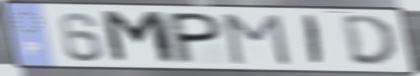6: (57, 10, 106, 63)
D: (338, 13, 401, 69)
I: (303, 13, 325, 67)
M: (97, 9, 182, 67), (221, 12, 294, 67)
P: (168, 11, 226, 66)
